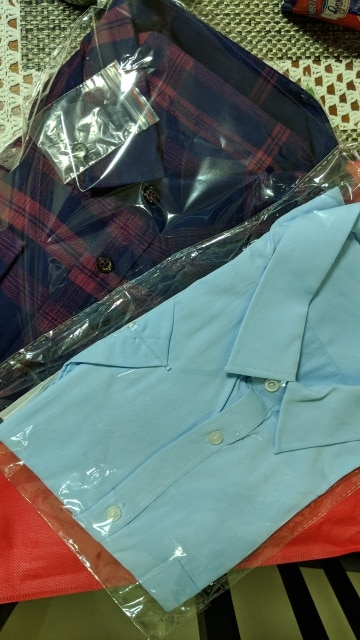shirts: (49, 216, 360, 616), (17, 16, 313, 418)
